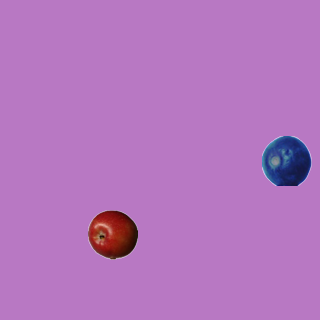Apple Braeburn: (87, 209, 137, 259)
Huckleberry: (261, 135, 311, 185)
